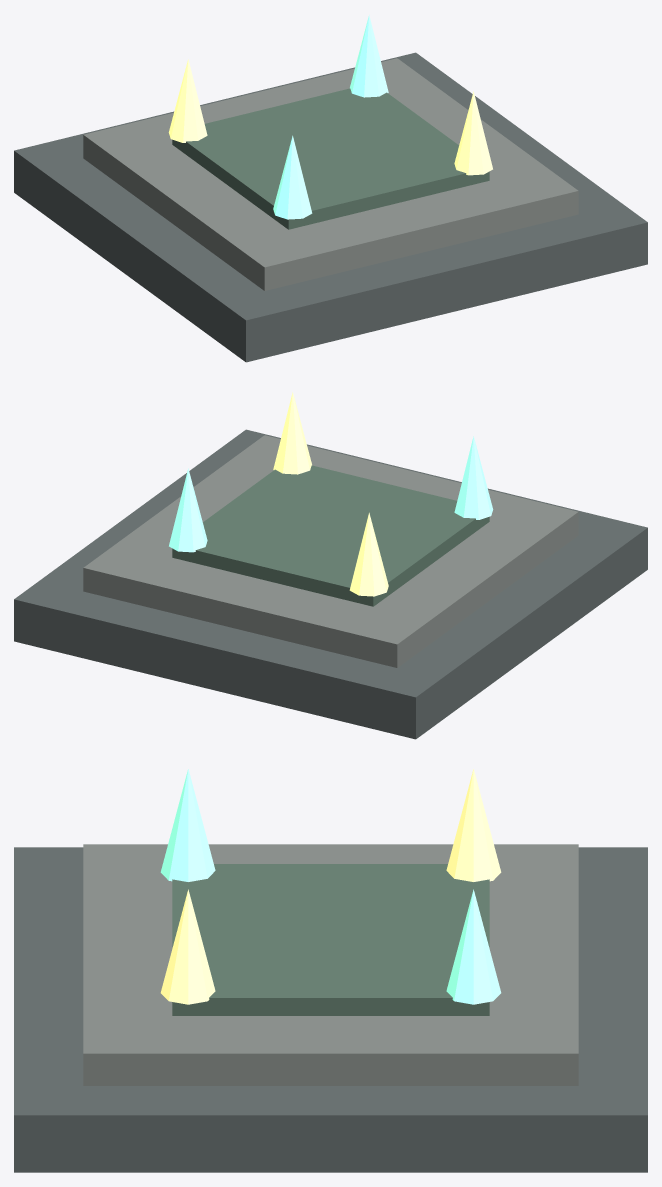
Rendered from foundation_altar.glb.
3 views of the same model, one above another, from view 1: azimuth 30°, elevation 25°; view 2: azimuth 150°, elevation 25°; view 3: azimuth 270°, elevation 25° (orthographic). The views are drawn at different scales.
Visible parts, largest first — view 1: foundation_altar; view 2: foundation_altar; view 3: foundation_altar.
Part boxes in pixels (left/top/right/bottom): foundation_altar: left=14, top=15, right=647, bottom=362; foundation_altar: left=14, top=392, right=647, bottom=739; foundation_altar: left=14, top=769, right=647, bottom=1172.
Size of the model in its own units: 3.2 by 1.17 by 3.2.
5 materials, 5 textured.
